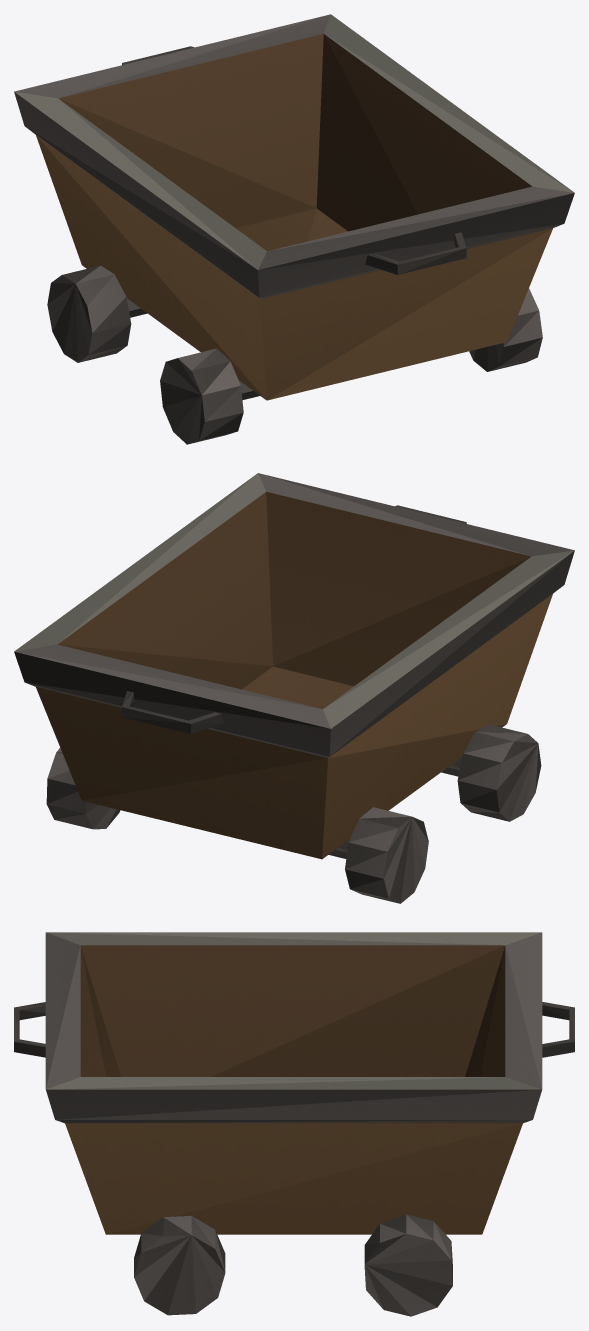
The model's file is Wagon.fbx.
The picture shows the model from 3 angles, top to bottom: view 1: azimuth 30°, elevation 25°; view 2: azimuth 150°, elevation 25°; view 3: azimuth 270°, elevation 25°; orthographic projection.
Visible parts, largest first — view 1: polySurface1078; view 2: polySurface1078; view 3: polySurface1078.
Boxes of the visible parts, <box> form: polySurface1078: <box>14,14,574,444</box>; polySurface1078: <box>14,473,574,903</box>; polySurface1078: <box>14,932,574,1316</box>.
Size of the model in its own units: 173 by 107 by 245.
Materials: 1 (1 with a texture image).
